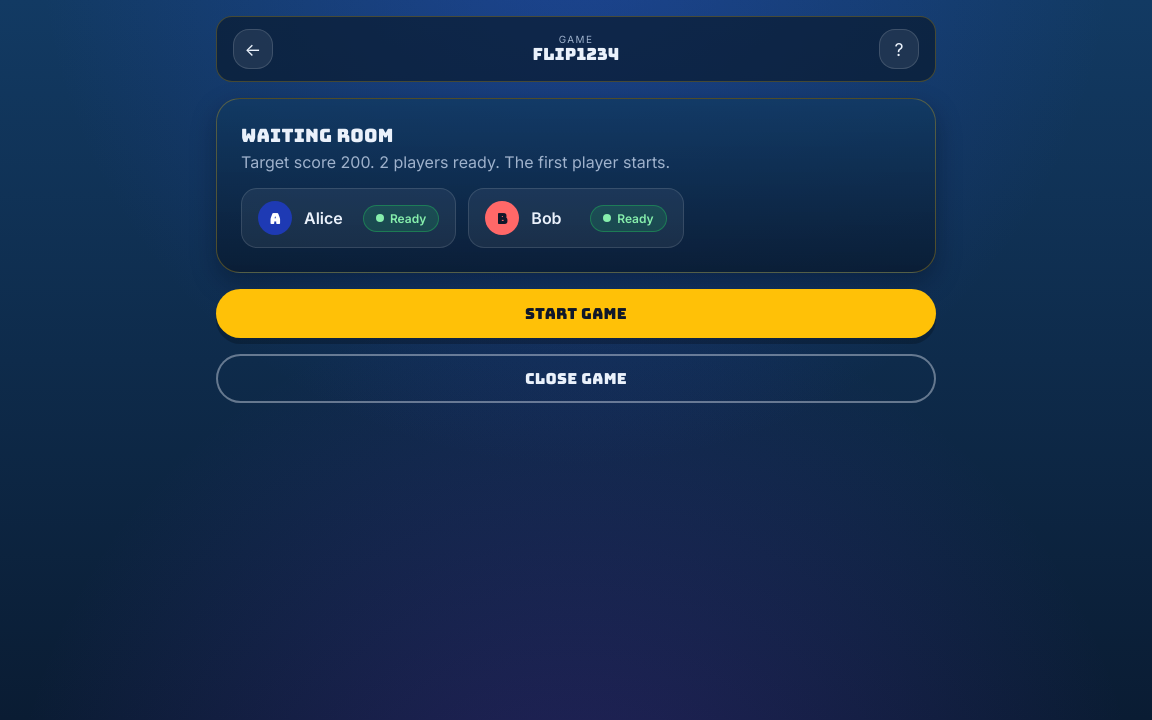
Page guard-path coverage behavior › treats close-game 404 as already-closed and returns to lobby
The image size is (1152, 720).
Expected: the heading "Waiting room" is shown, [241,123,394,148]
Click the button named "Close game" at (253, 49), box [233,29,273,69]
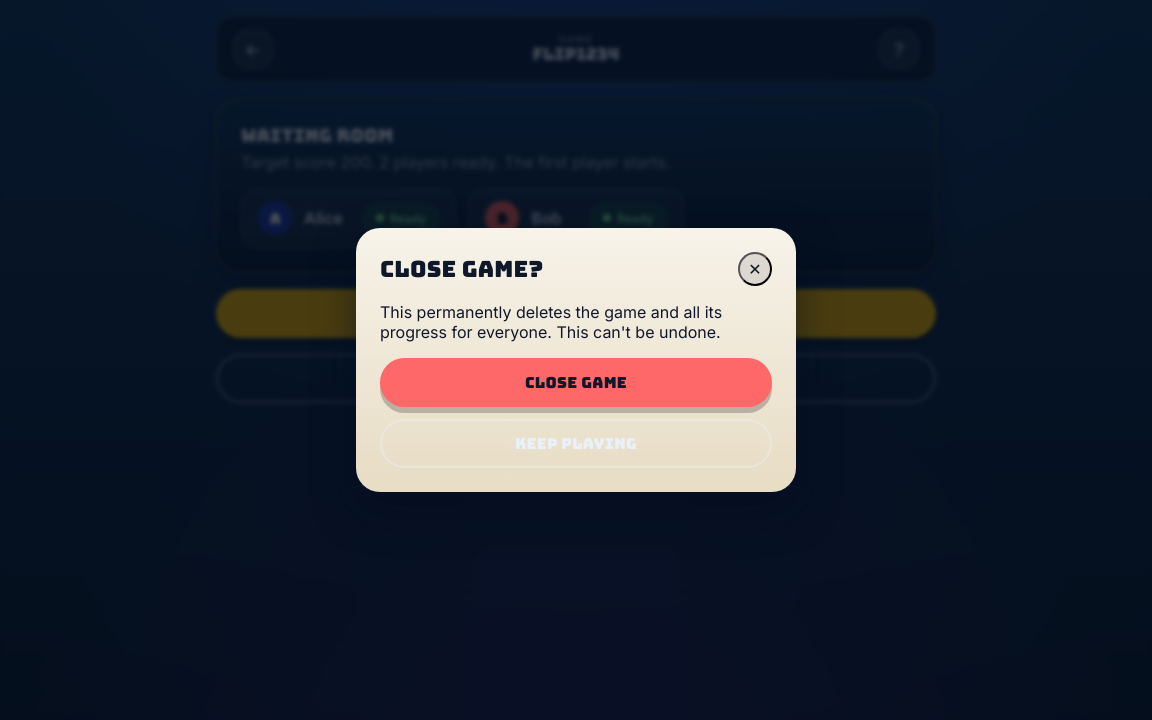
Click the button "Close game" at (576, 382), box [380,358,772,407]
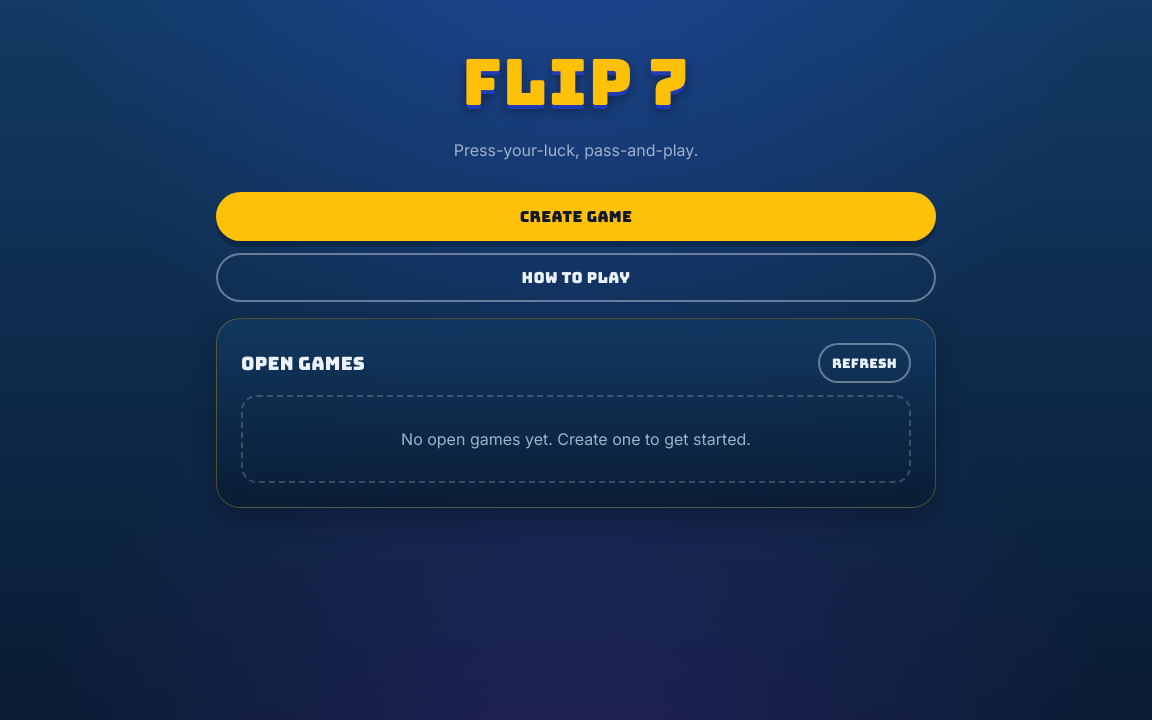
Expected: the button "Create game" is shown, [216,192,936,241]
Expected: the heading "Open games" is shown, [241,350,365,376]
